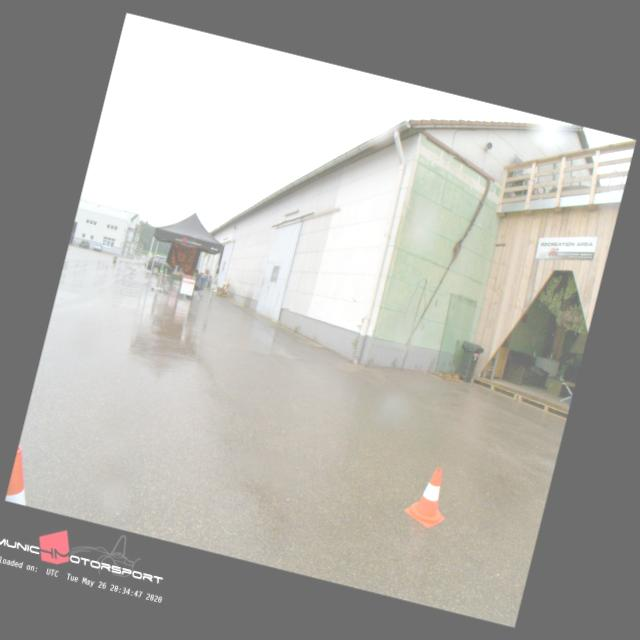orange_cone: (402, 462, 454, 530)
